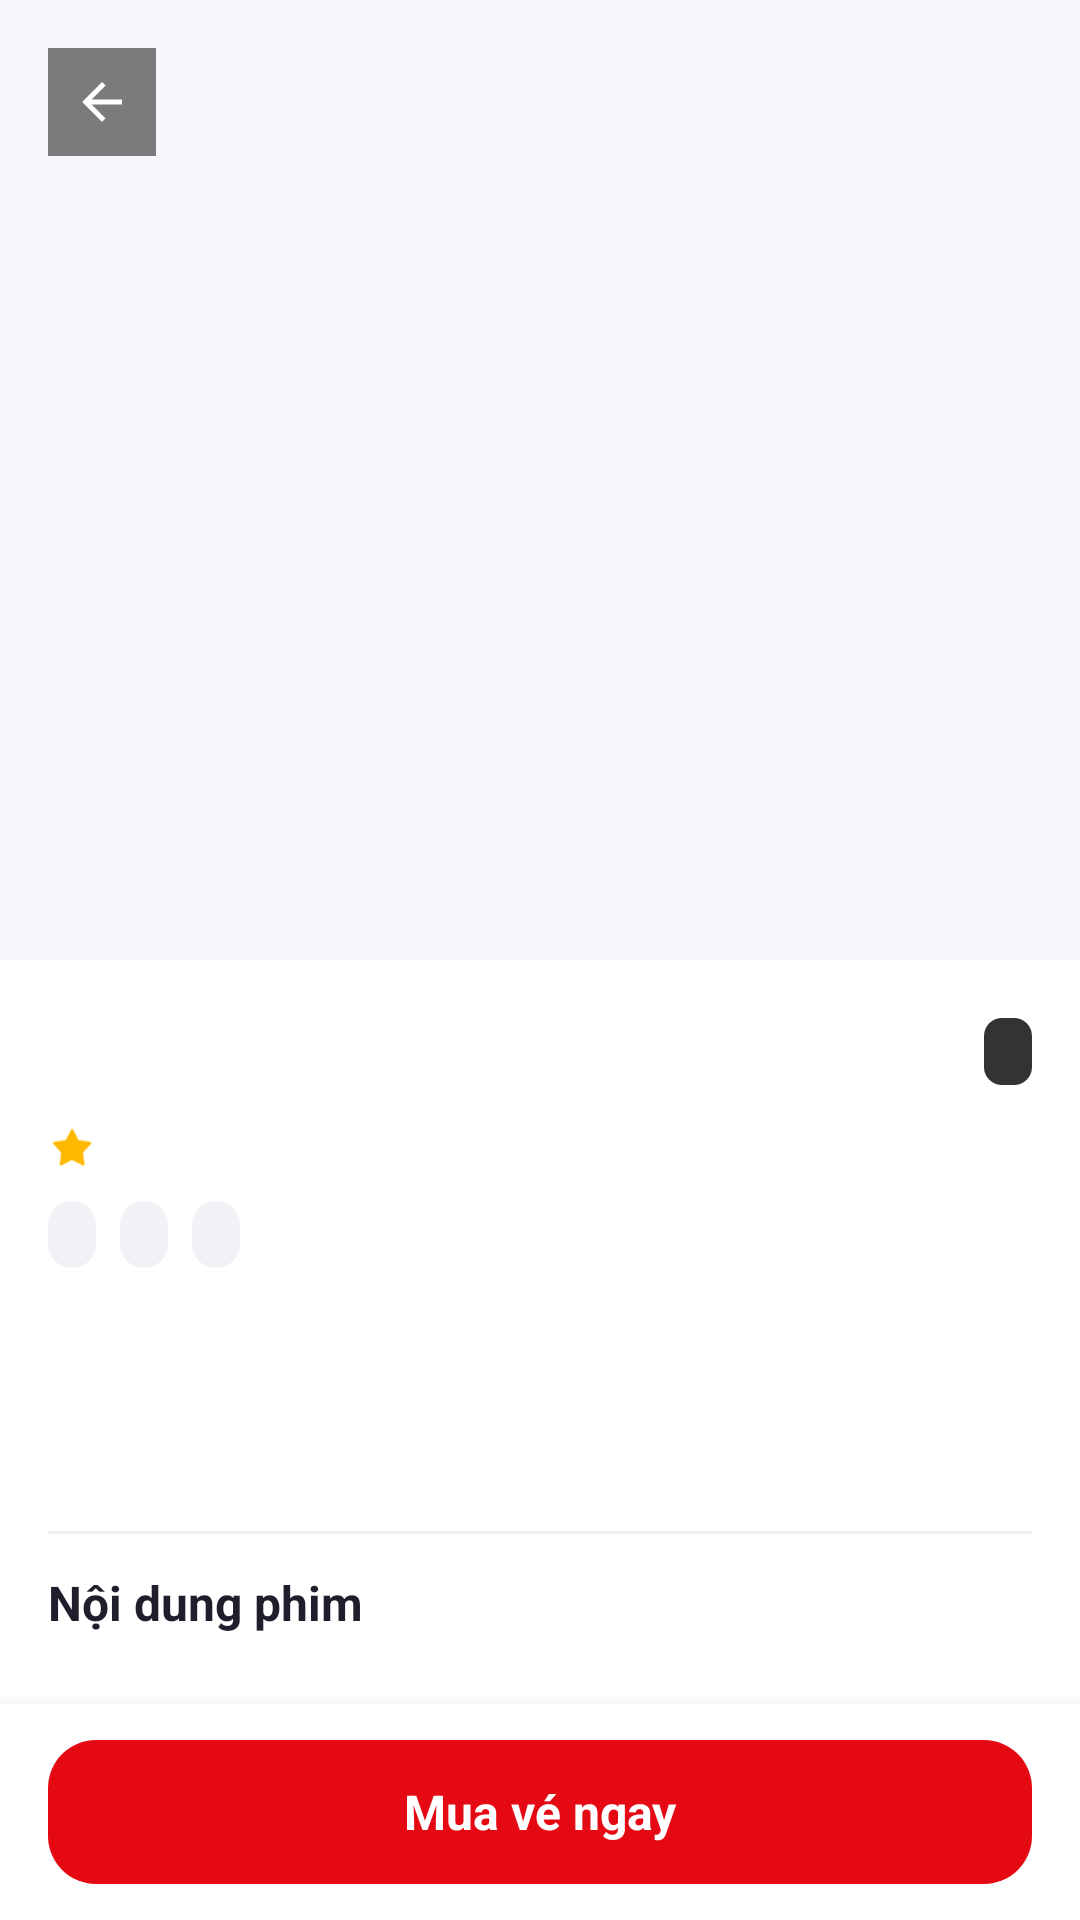

Where icons sit on this 1080w x 1920h app screen, as bbox=(x1, y1, x2, y2):
arrow back: bbox=(48, 48, 156, 156)
star on: bbox=(52, 1128, 92, 1166)
